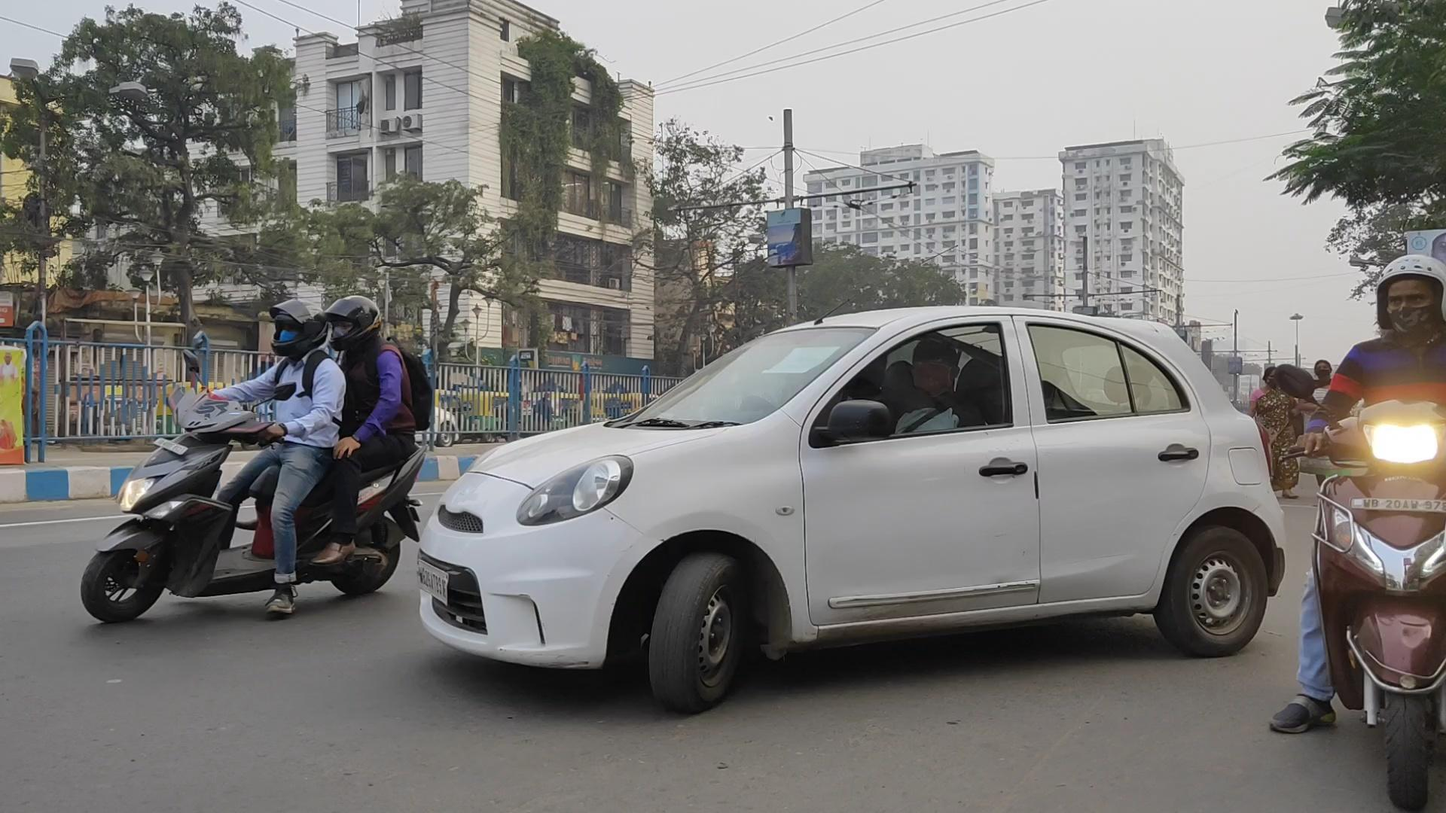bike: (81, 295, 420, 623), (1286, 255, 1446, 813)
car: (414, 302, 1289, 717)
